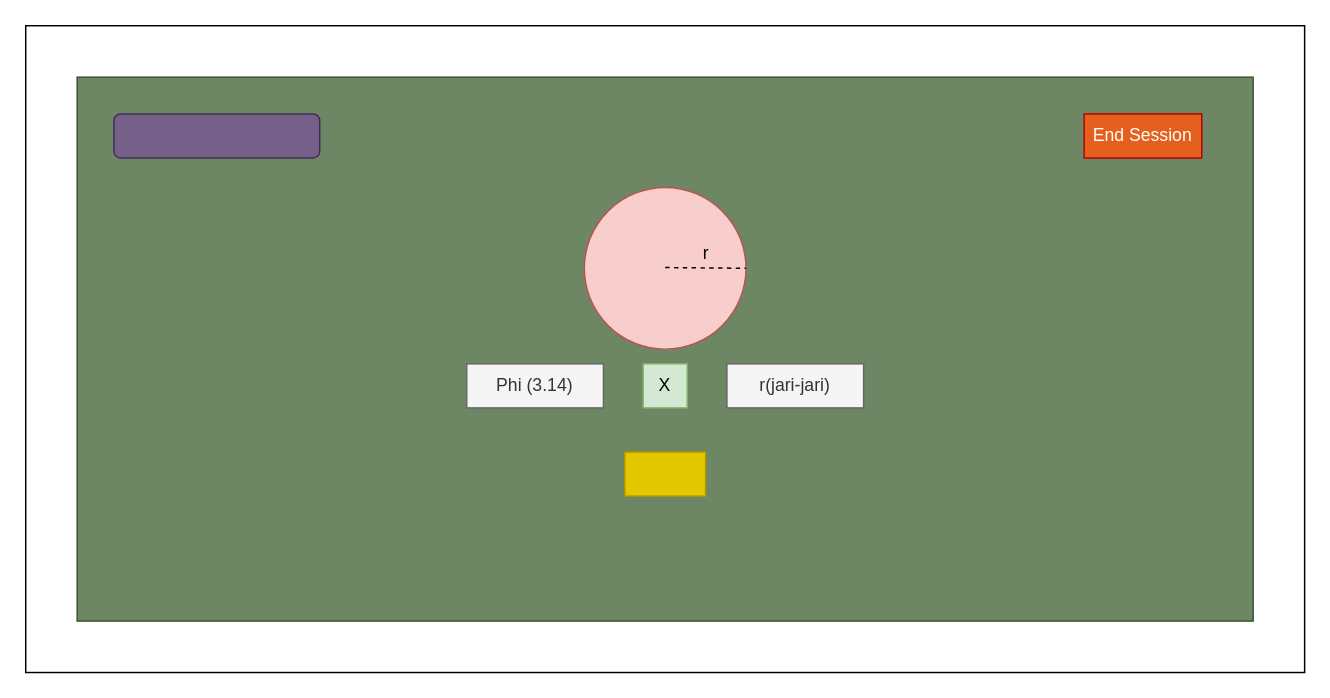
Image size: 1330x698. Some labels were removed from this diagram. Here are the shapes that lost their labels. From the top down, the centre of each, then its label:
pixel 216 135: Username
pixel 664 473: Hitung!
